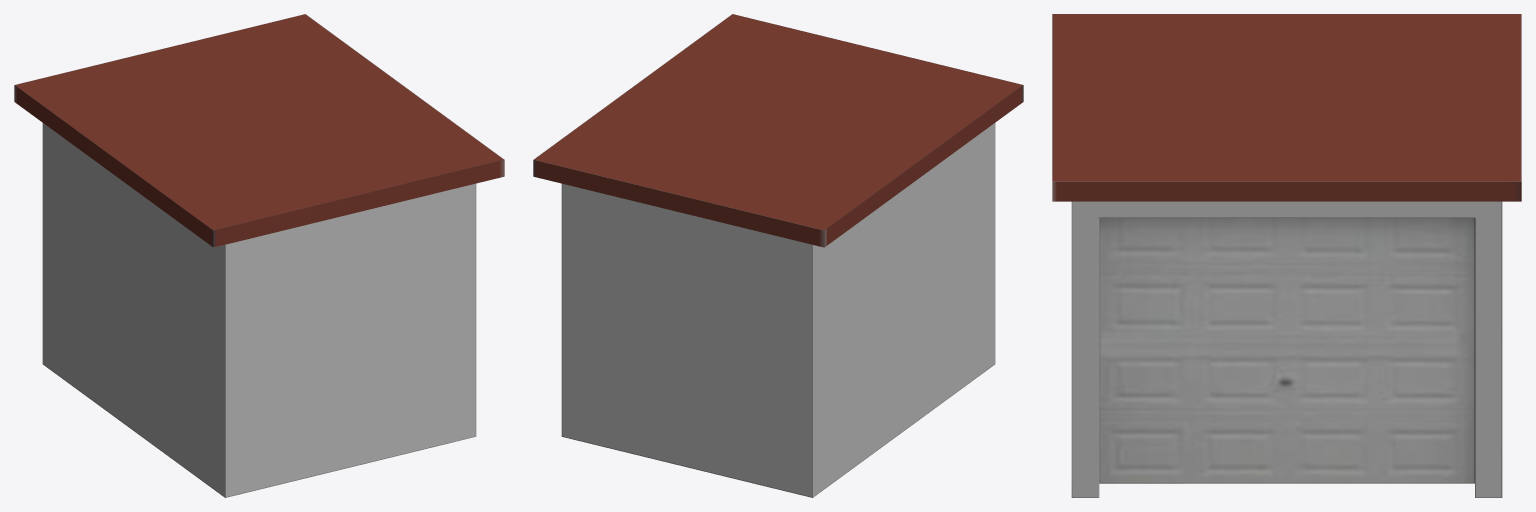
The model's file is garage.fbx.
3 renders of one model, left to right at view 1: azimuth 30°, elevation 25°; view 2: azimuth 150°, elevation 25°; view 3: azimuth 270°, elevation 25°, orthographic. The views are drawn at different scales.
Parts seen in each view (by area): view 1: pCube1, pCube2; view 2: pCube1, pCube2; view 3: pCube1, pCube2.
Boxes of the visible parts, x1,y1,x2,y2 form: pCube1: (42,123,476,497); pCube2: (14,14,504,247); pCube1: (561,123,995,497); pCube2: (533,14,1023,247); pCube1: (1071,201,1502,497); pCube2: (1052,14,1521,201).
Size of the model in its own units: 3.73 by 3.41 by 4.42.
